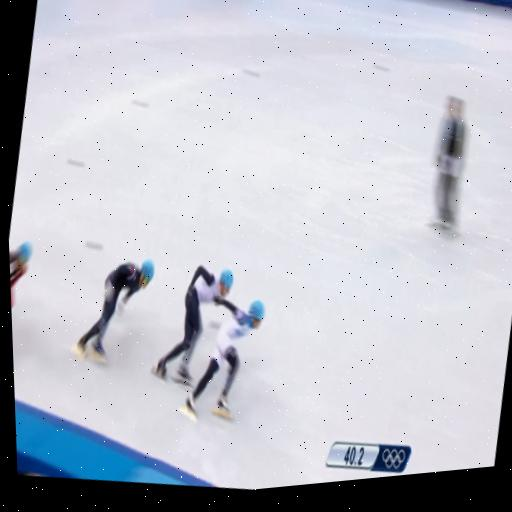Skater: (181, 298, 264, 420), (152, 266, 233, 385), (74, 261, 154, 361), (9, 242, 32, 308)
